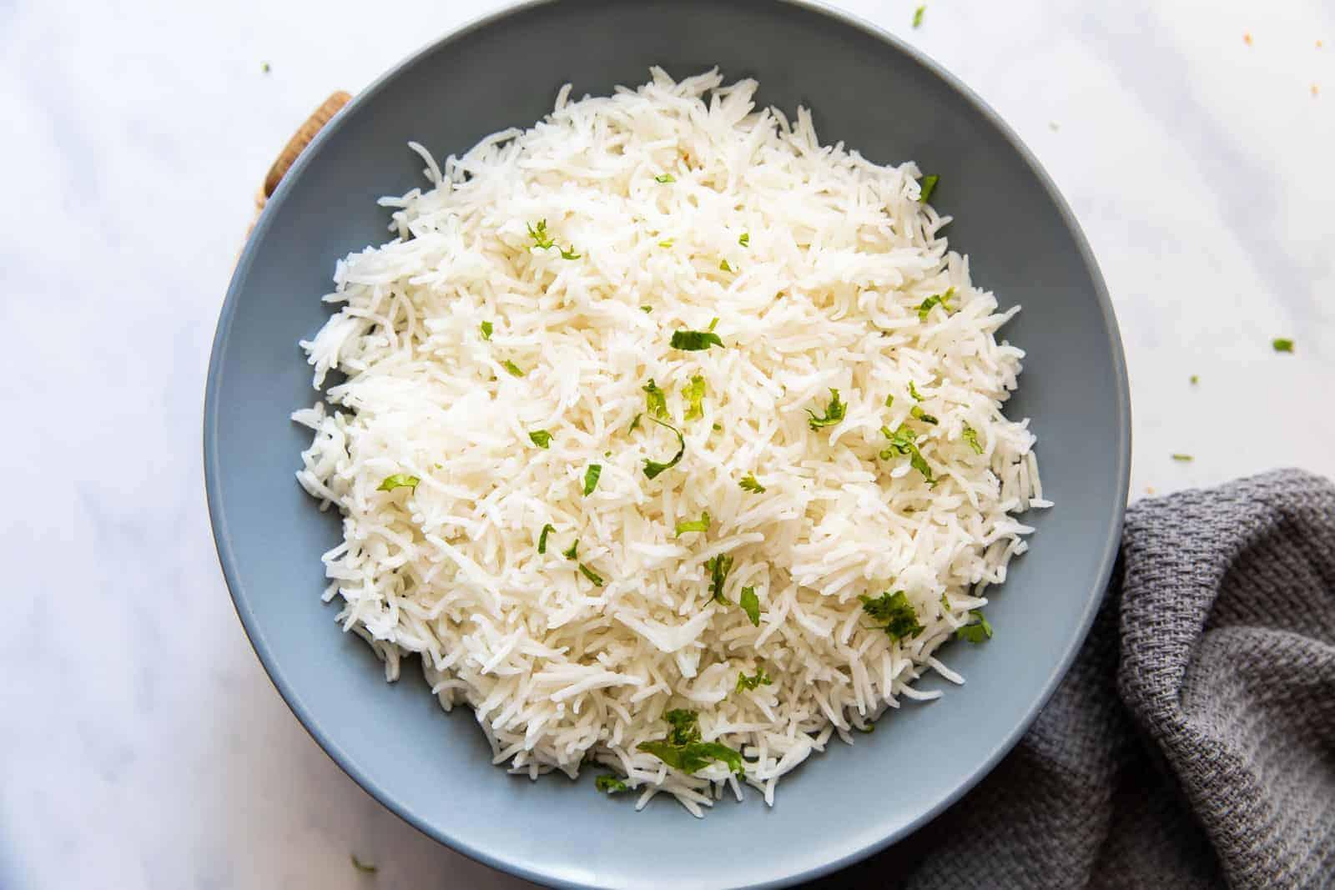rice: (308, 85, 1032, 800)
